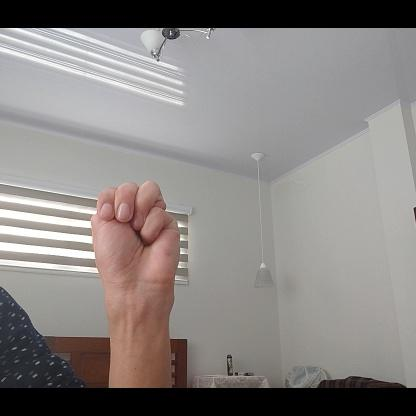M: (91, 179, 182, 298)
